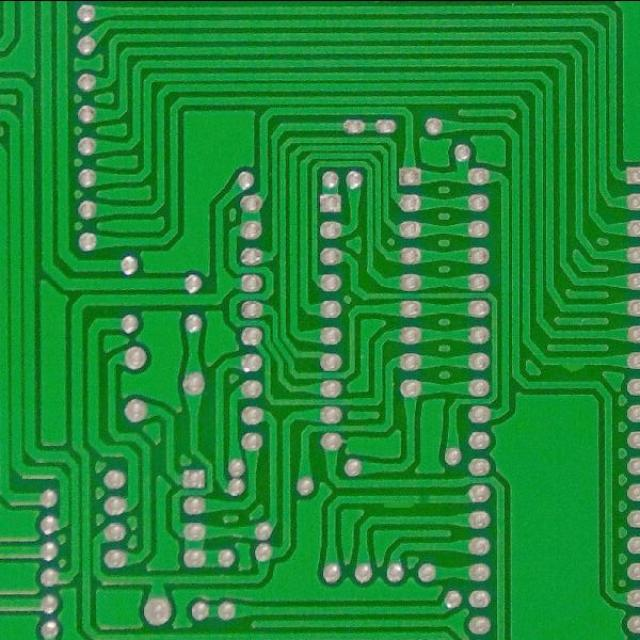Spur: (379, 490, 418, 512), (556, 352, 591, 375)
